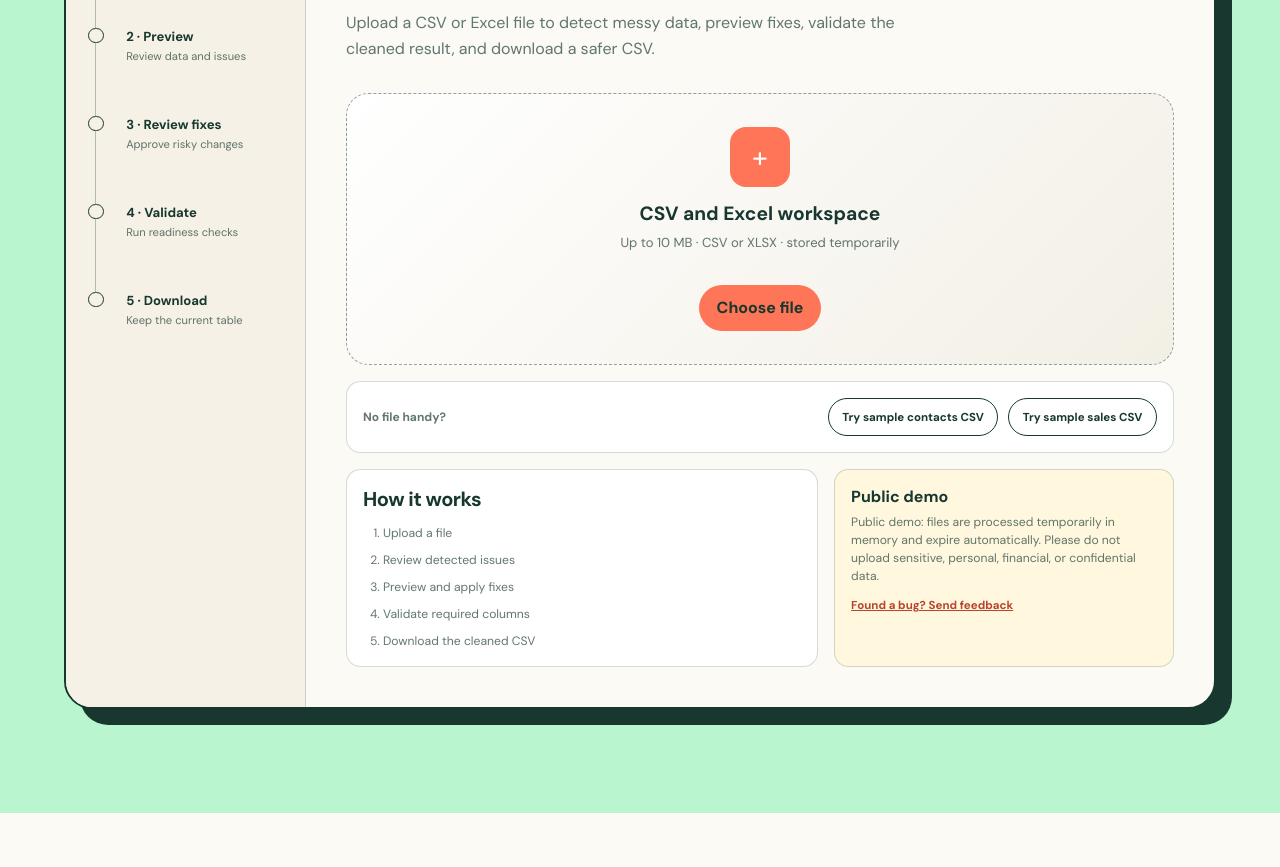
CleanMyFilePage › loads a sample sales CSV through the existing upload flow
The width and height of the screenshot is (1280, 867).
(page scrolled)
Click the button "Try sample sales CSV". click: point(1083, 417)
box: x1=1008 y1=398 x2=1157 y2=436
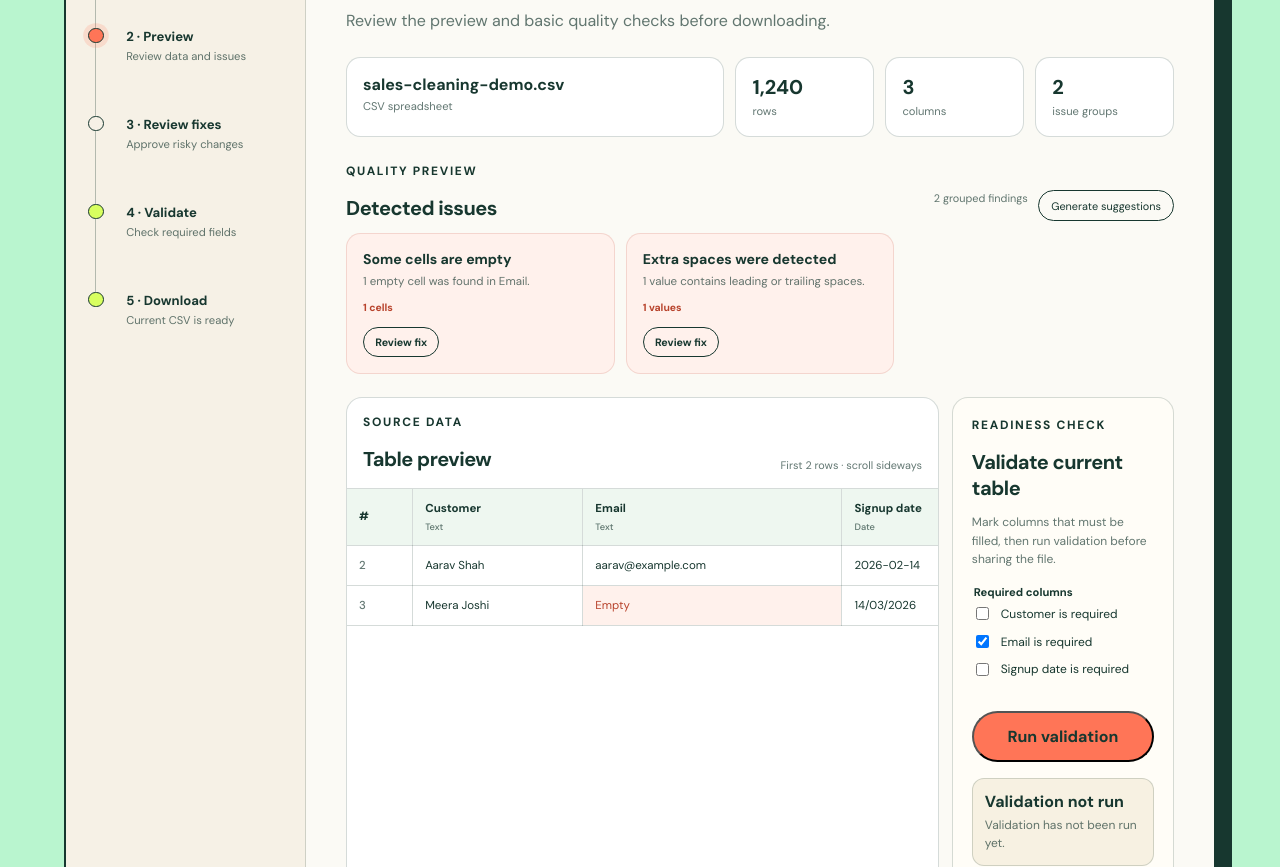
Expected: the text "sales-cleaning-demo.csv" is shown, x1=363 y1=74 x2=564 y2=95
